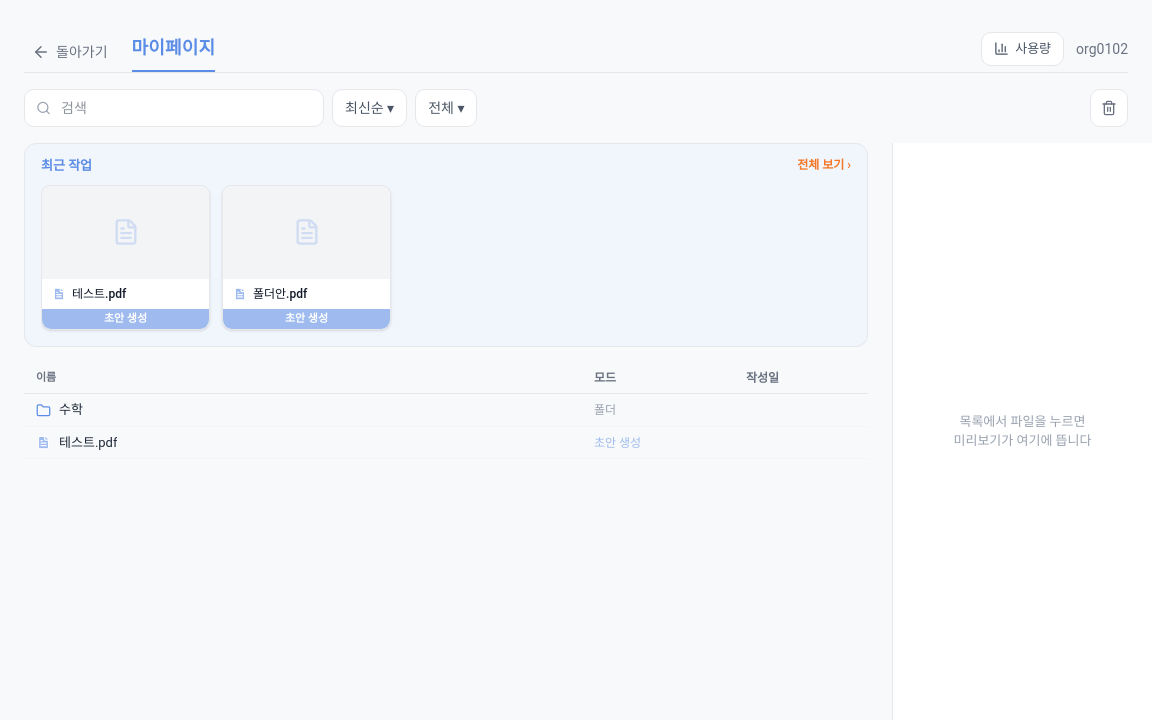
Test case: 마이페이지 · 최근 작업 전체 › 최근 작업 전체로 들어가면 폴더는 빠지고 작업만 남는다
Expected: the text "수학" is shown, [59,400,83,420]
Click the button "전체 보기 ›" at (824, 165), box [797,156,851,174]
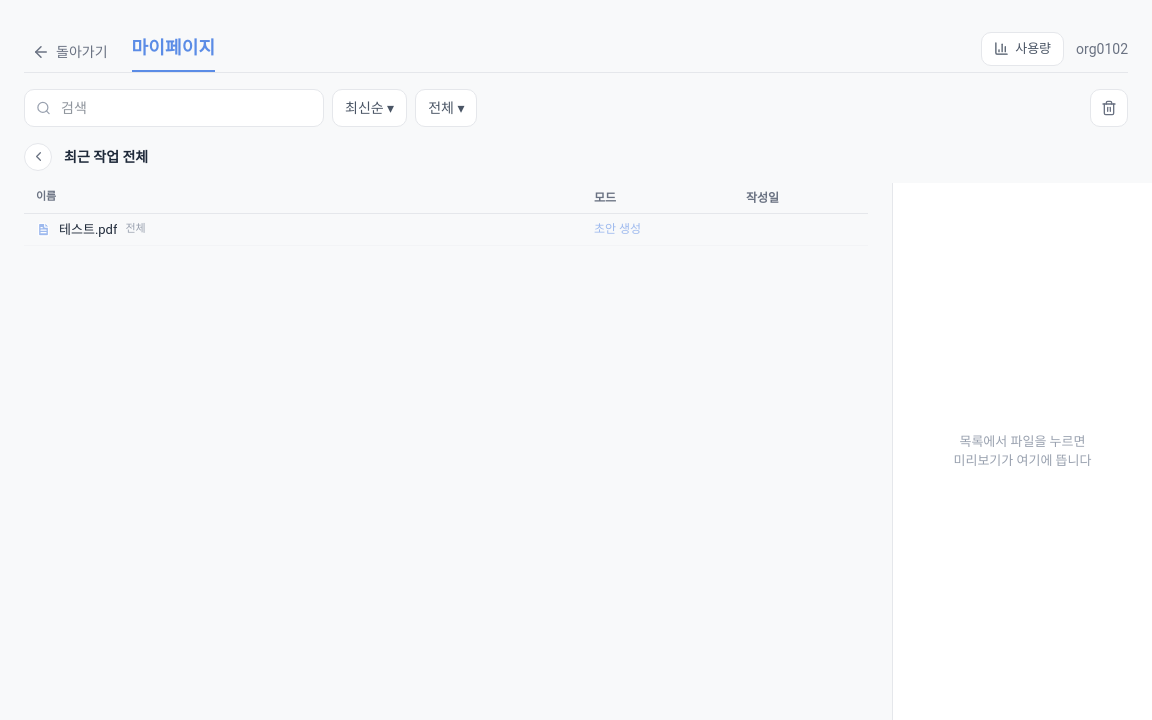
Expected: the heading "최근 작업 전체" is shown, [64,146,148,166]
Expected: the text "수학" is gone
